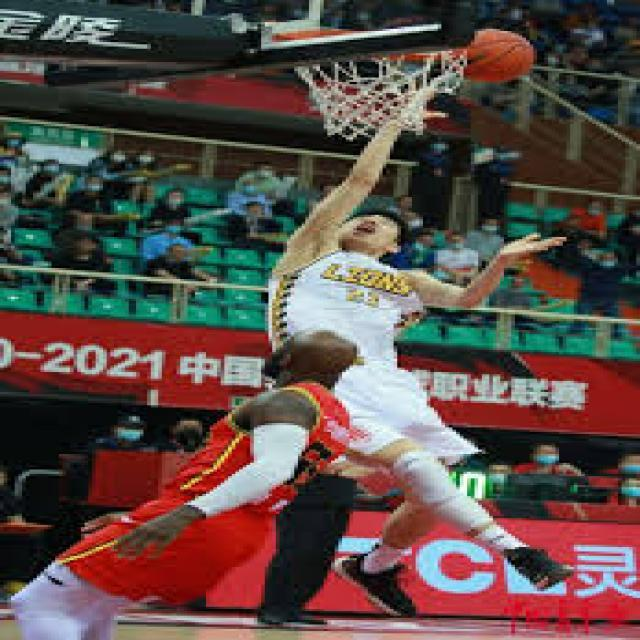rim: (459, 31, 534, 78)
